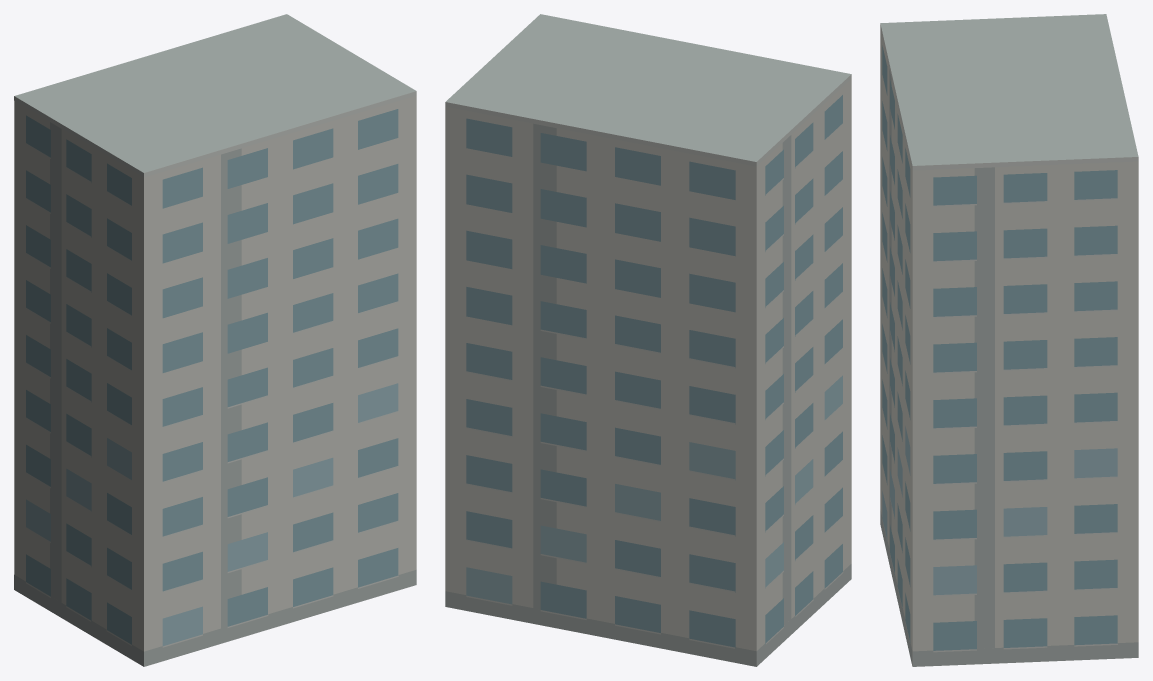
The model's file is residential-9cf7fb5b-ef72-4c96-a65d-ceea1c893ca0.glb.
3 renders of one model, left to right at view 1: azimuth 30°, elevation 25°; view 2: azimuth 150°, elevation 25°; view 3: azimuth 270°, elevation 25°, orthographic. The views are drawn at different scales.
Visible parts, largest first — view 1: residential-9cf7fb5b-ef72-4c96-a65d-ceea1c893ca0.tmp; view 2: residential-9cf7fb5b-ef72-4c96-a65d-ceea1c893ca0.tmp; view 3: residential-9cf7fb5b-ef72-4c96-a65d-ceea1c893ca0.tmp.
Part boxes in pixels (x1,y1,x2,y2): residential-9cf7fb5b-ef72-4c96-a65d-ceea1c893ca0.tmp: [14, 14, 416, 666]; residential-9cf7fb5b-ef72-4c96-a65d-ceea1c893ca0.tmp: [445, 14, 851, 666]; residential-9cf7fb5b-ef72-4c96-a65d-ceea1c893ca0.tmp: [880, 14, 1138, 666].
Size of the model in its own units: 16.93 by 26 by 12.16.
